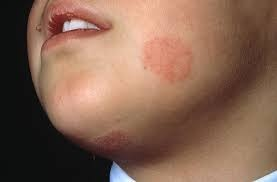Ringworm: (138, 26, 202, 88)
